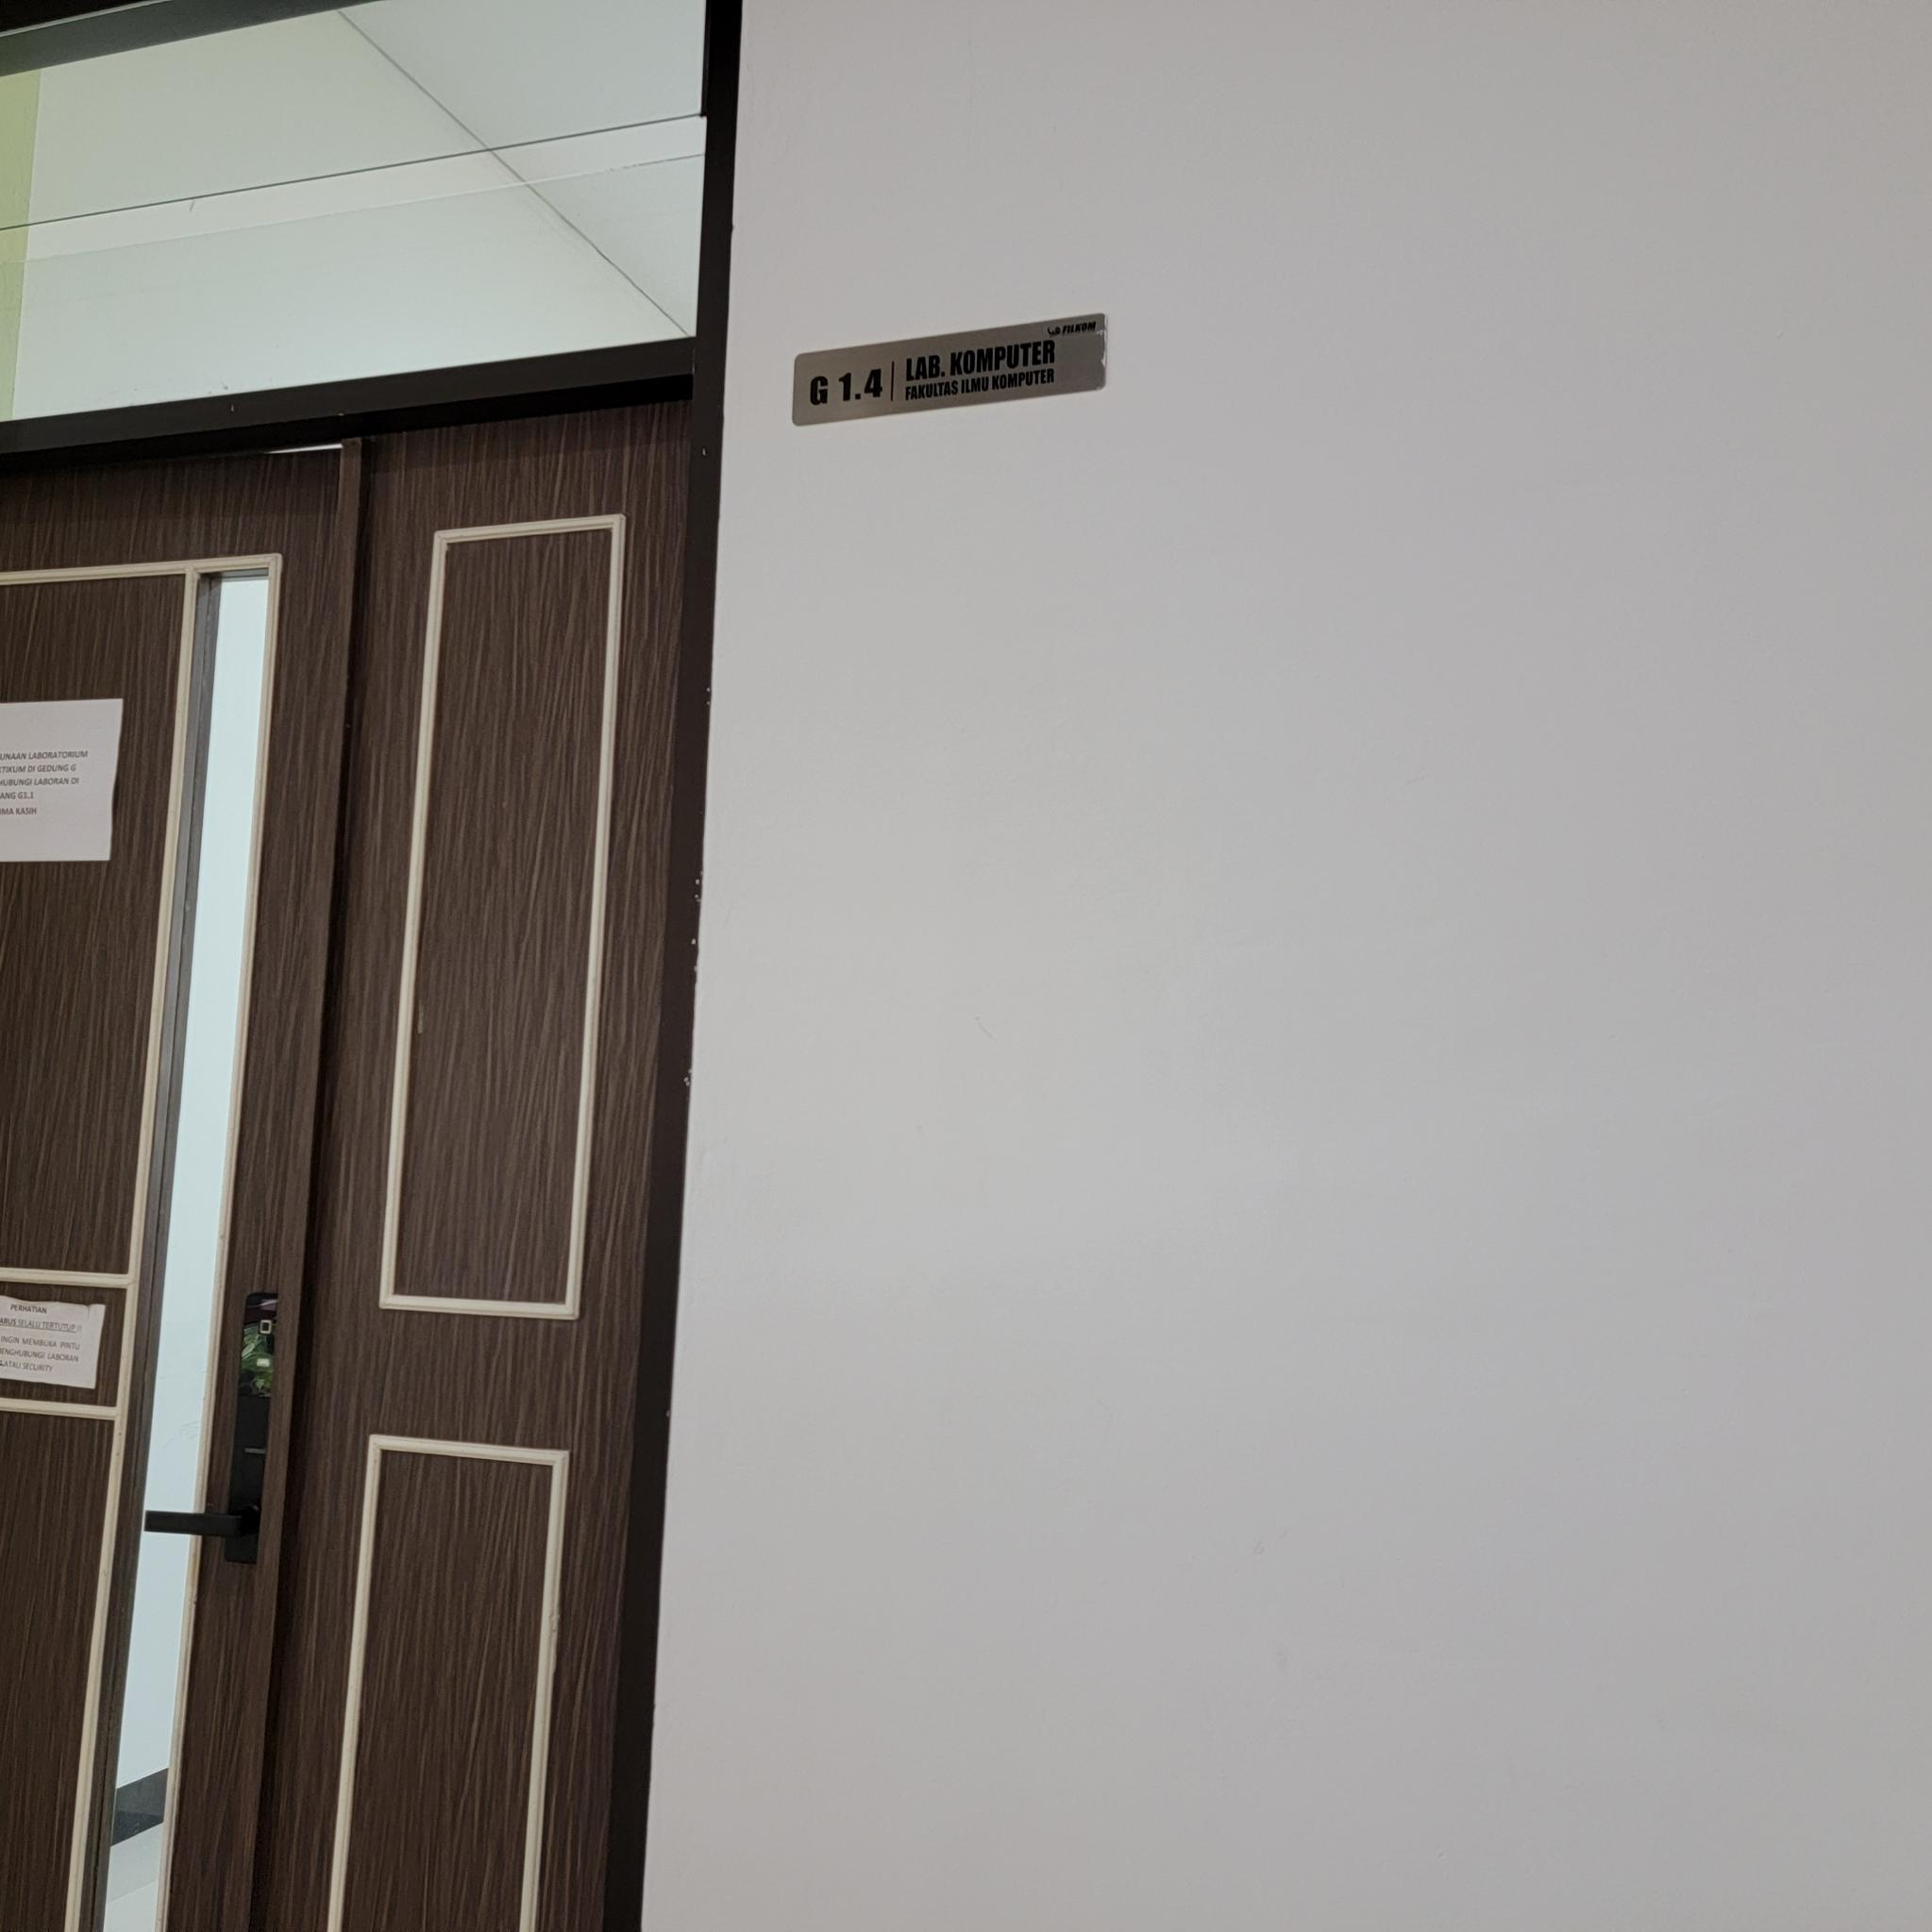plate: (791, 311, 1108, 426)
